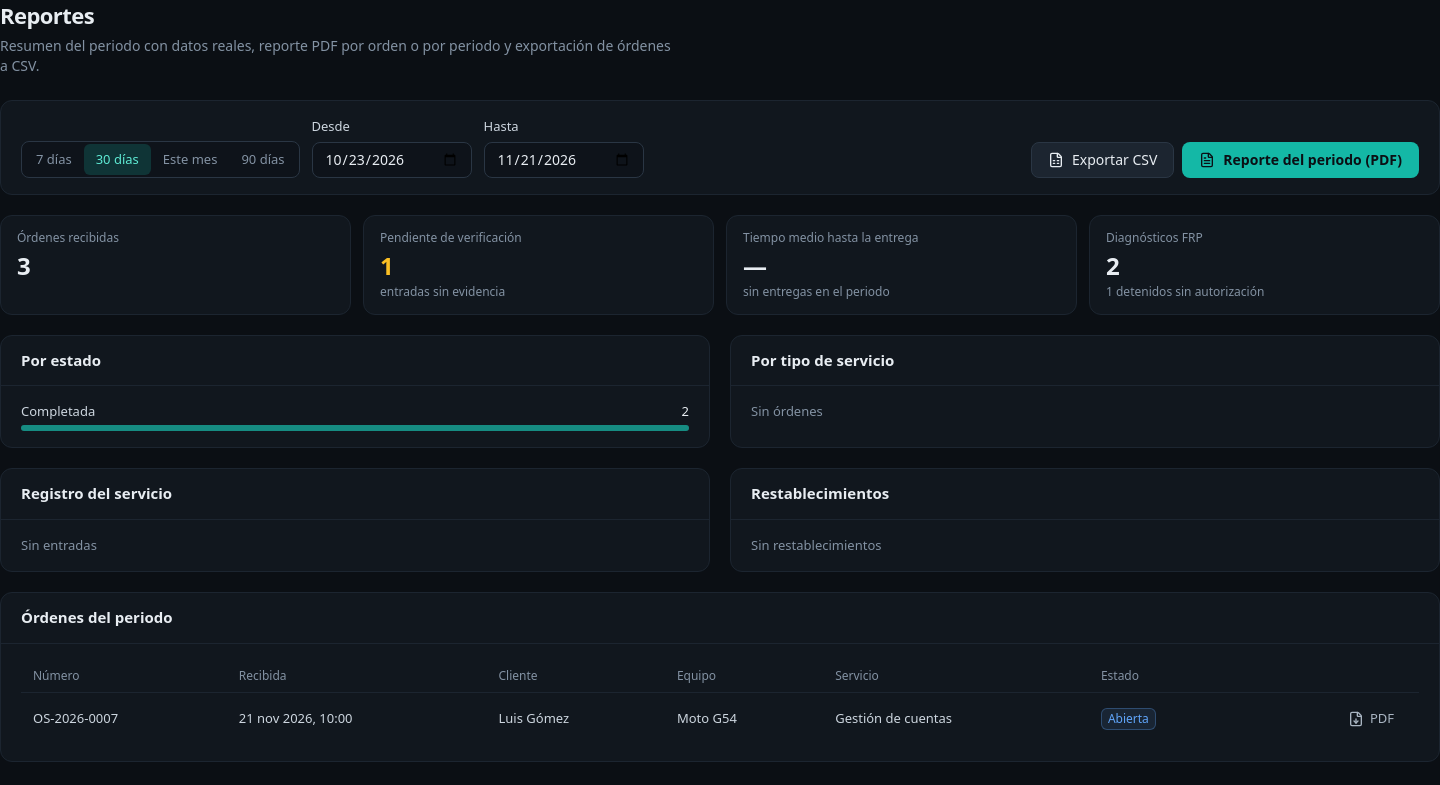
Test: reports › shows real counts and exports the selected period
Expected: the text "1 detenidos sin autorización" is shown, [1106,283,1264,300]
Expected: the text "sin entregas en el periodo" is shown, [743,283,890,300]
Click the radio button labelled "7 días": x=54, y=159 [24,144,84,175]
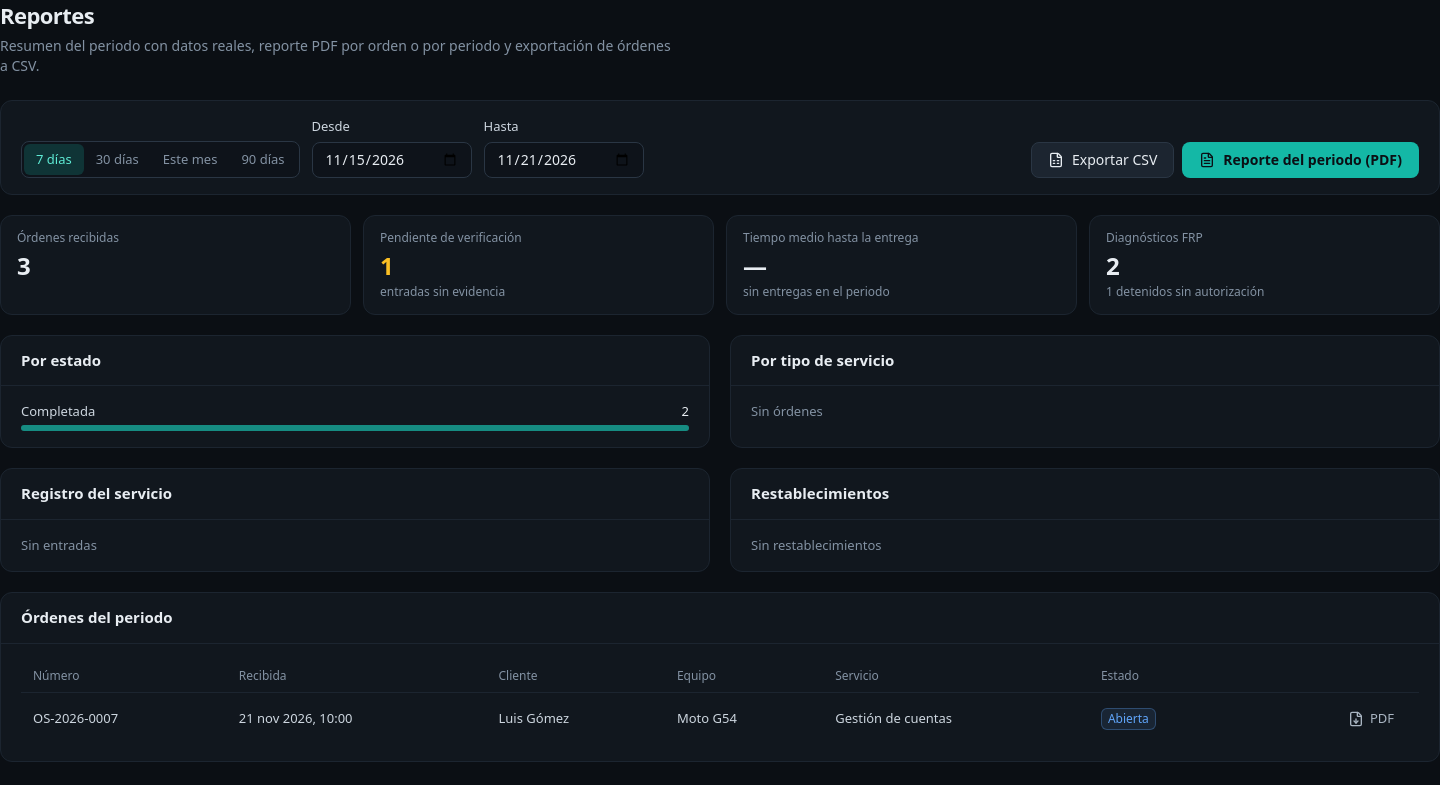
Click the button "Exportar CSV": x=1103, y=160 [1031,142,1174,178]
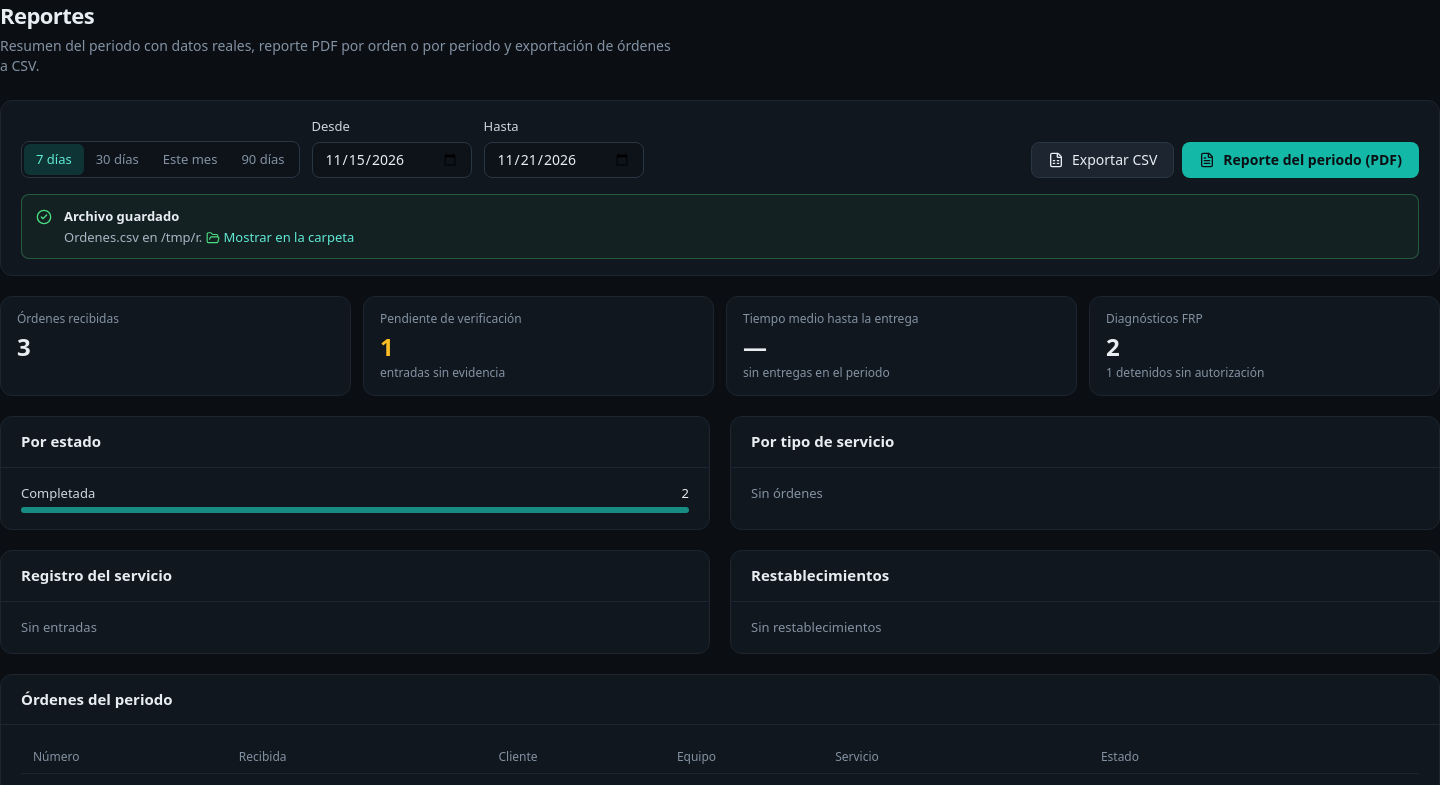
Now the text "Ordenes.csv" is shown, box [64,228,139,246]
